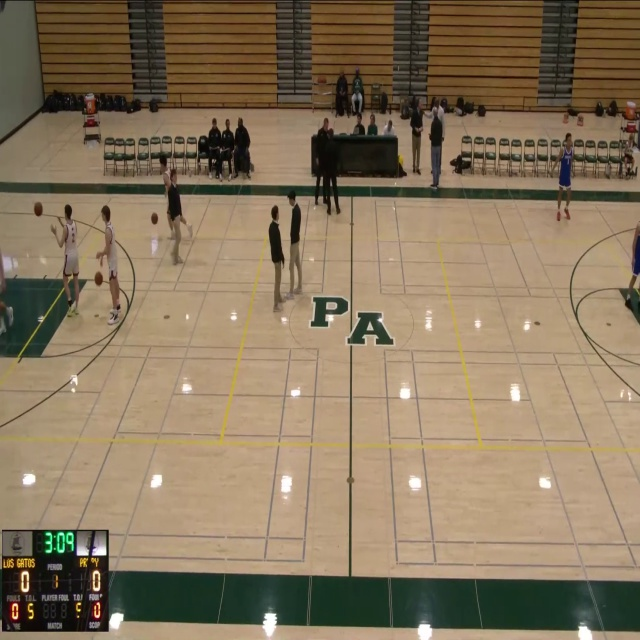Basketball: (34, 202, 43, 216), (94, 272, 103, 286), (151, 212, 158, 224)
